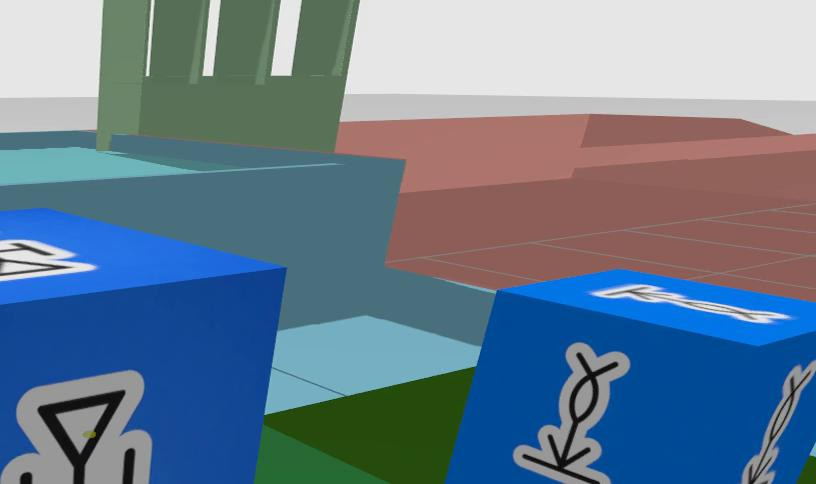KFS_REAL: (0, 208, 285, 483), (0, 370, 151, 483), (513, 343, 628, 483), (550, 231, 778, 277), (739, 361, 815, 483), (589, 282, 793, 323), (641, 220, 815, 254), (0, 239, 97, 280), (696, 274, 815, 300), (732, 257, 815, 288), (718, 210, 815, 231), (582, 438, 584, 439)
